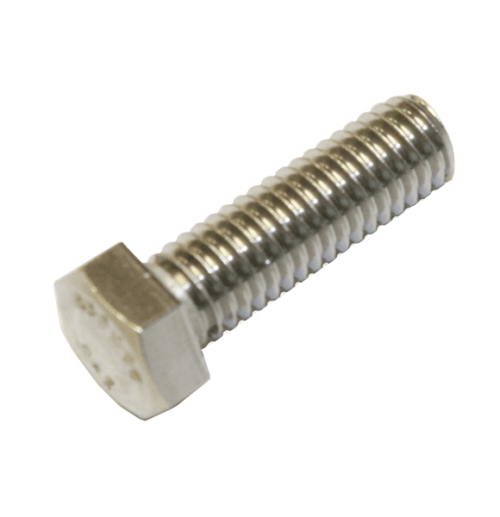hex bolt: (43, 86, 477, 434)
